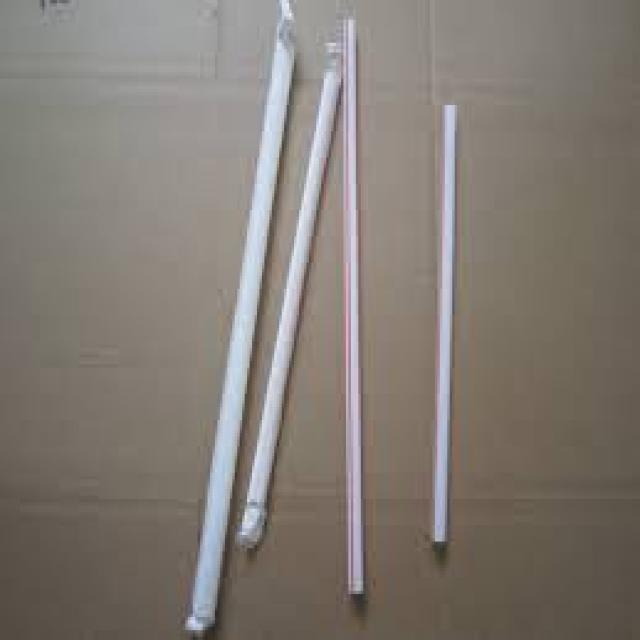straw: (185, 0, 294, 632), (237, 43, 340, 547), (433, 105, 454, 544), (346, 18, 360, 595)
